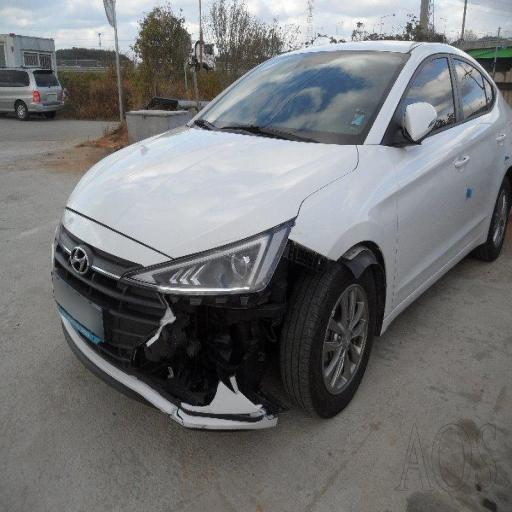broken: (147, 212, 365, 439)
